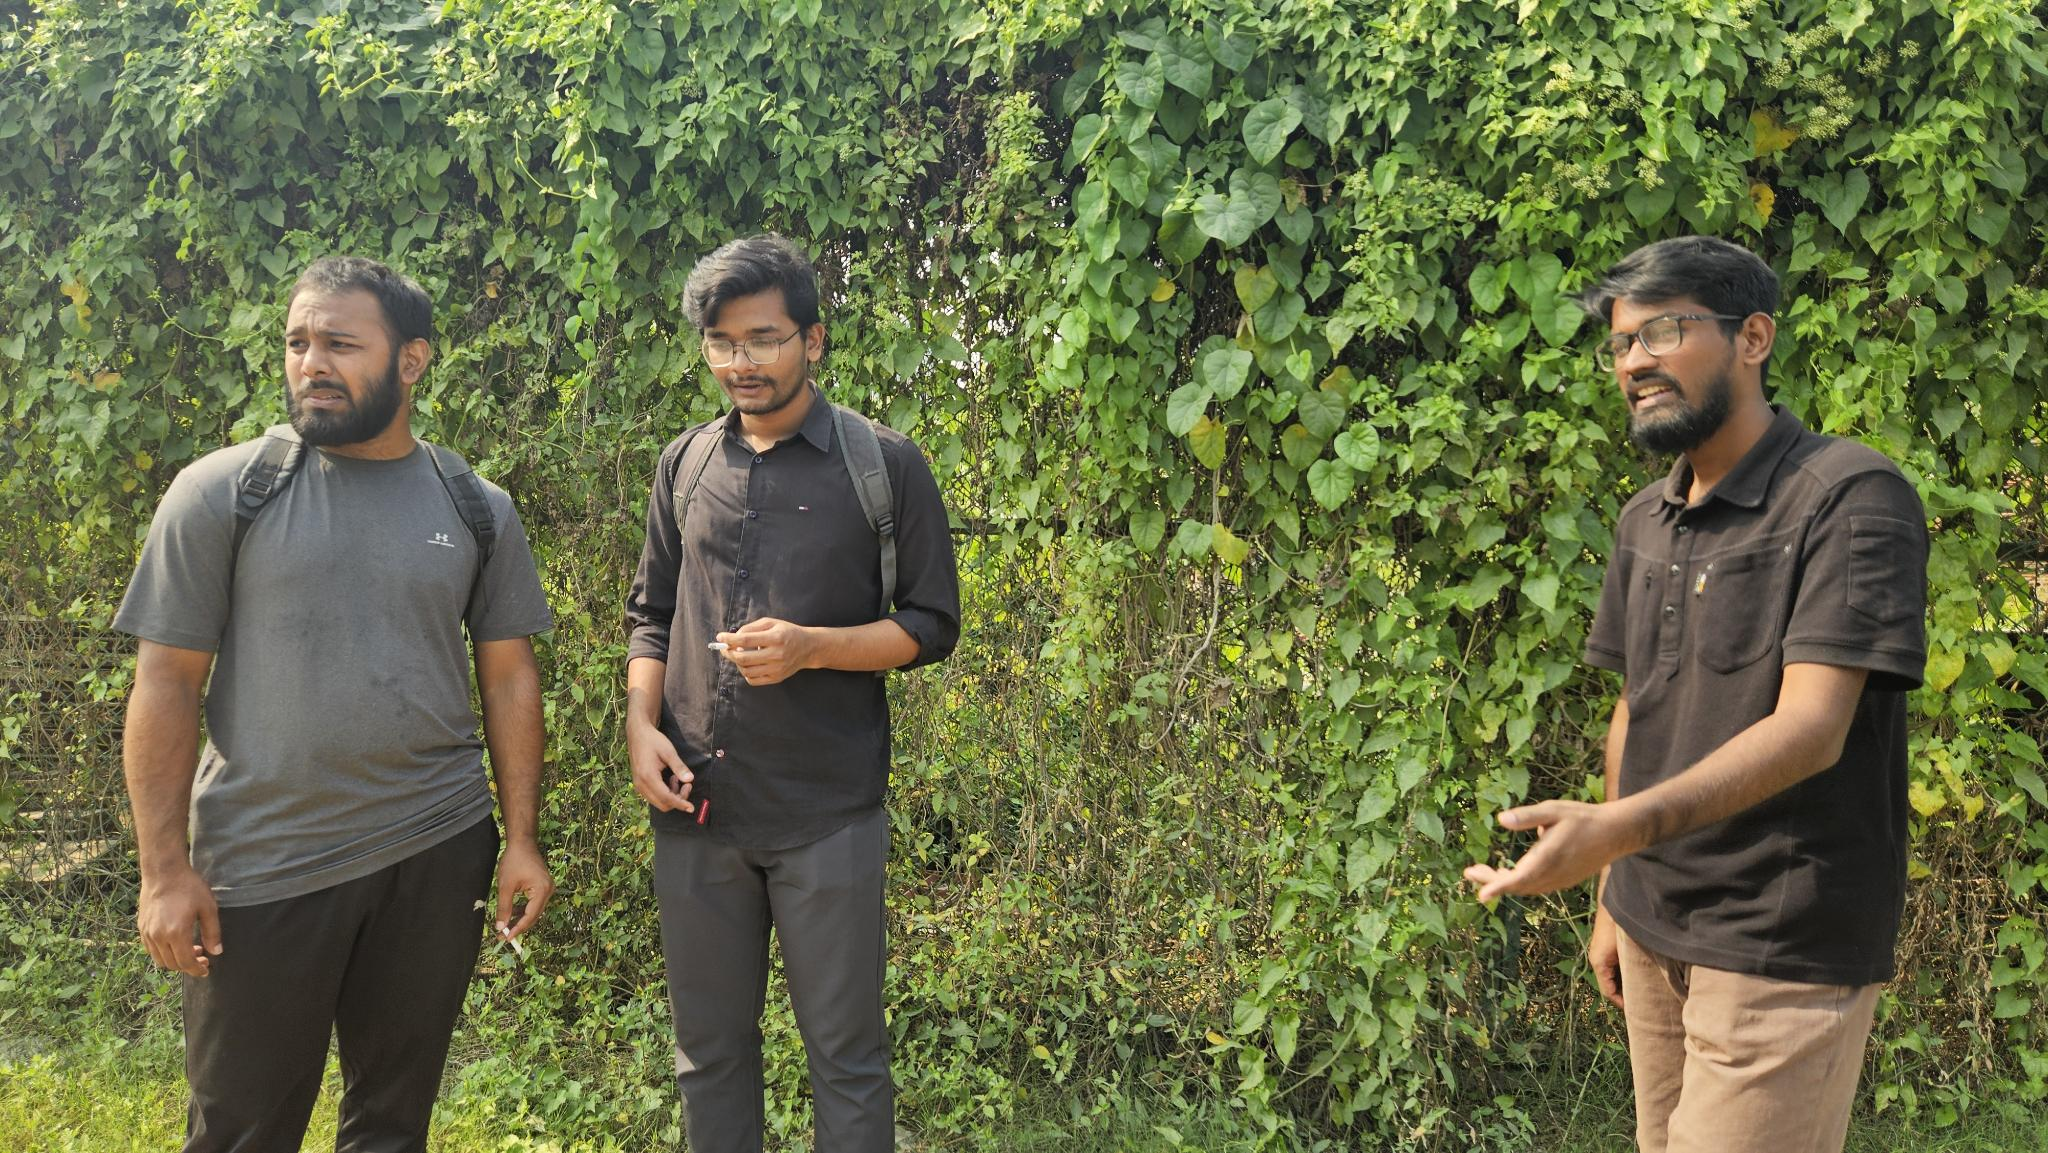cigarette: (499, 925, 525, 958), (705, 638, 738, 652)
nonSmoker: (1463, 235, 1931, 1153)
smoker: (108, 256, 556, 1153), (625, 239, 961, 1153)
